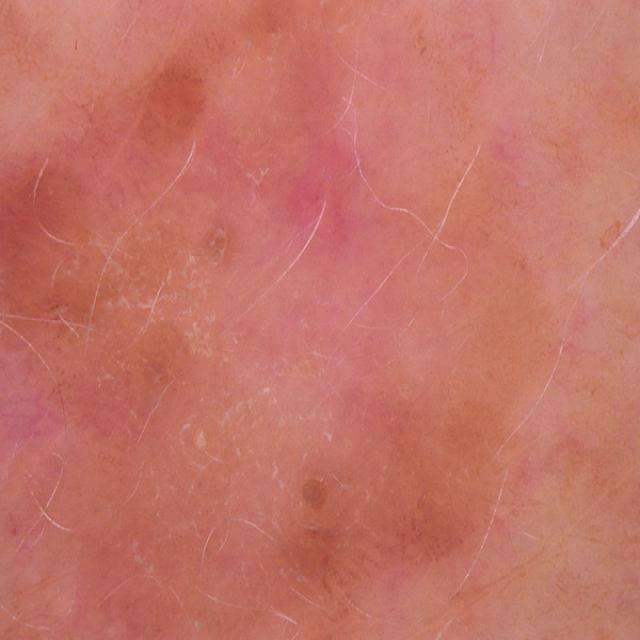Skin-Cancer Pigmented benign keratosis: (5, 0, 640, 640)
